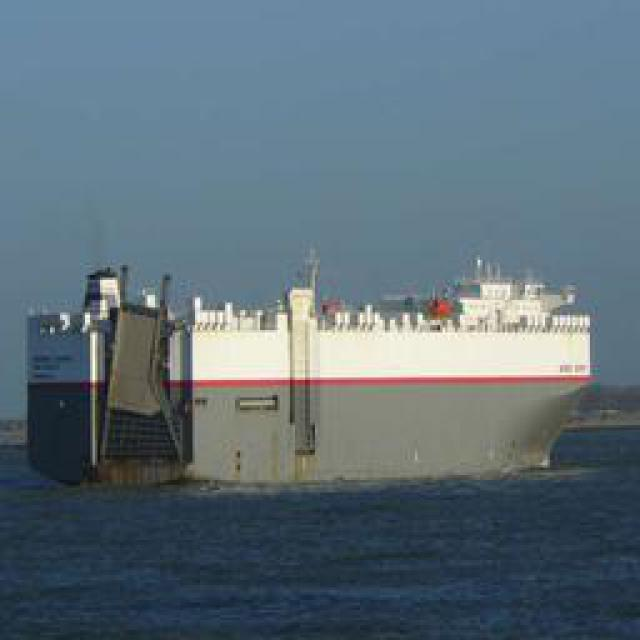Ship: (42, 225, 592, 485)
